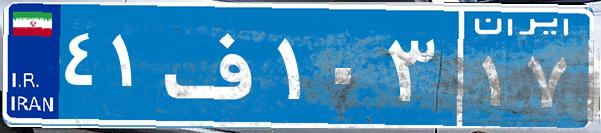0: (330, 28, 385, 110)
1: (273, 28, 330, 110), (475, 38, 525, 113), (110, 28, 158, 105)
3: (385, 28, 445, 110)
4: (57, 26, 110, 107)
7: (525, 38, 570, 115)
ف: (158, 15, 273, 115)
